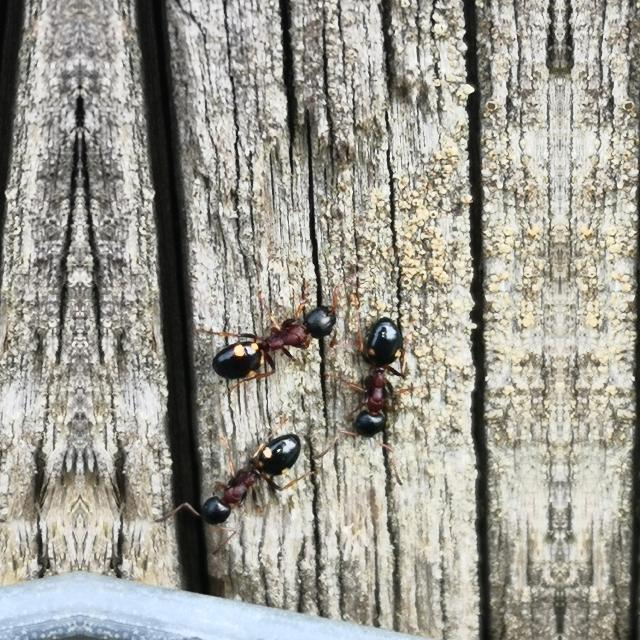Dolichoderus: (177, 409, 315, 546), (198, 282, 348, 404), (336, 291, 424, 455)
